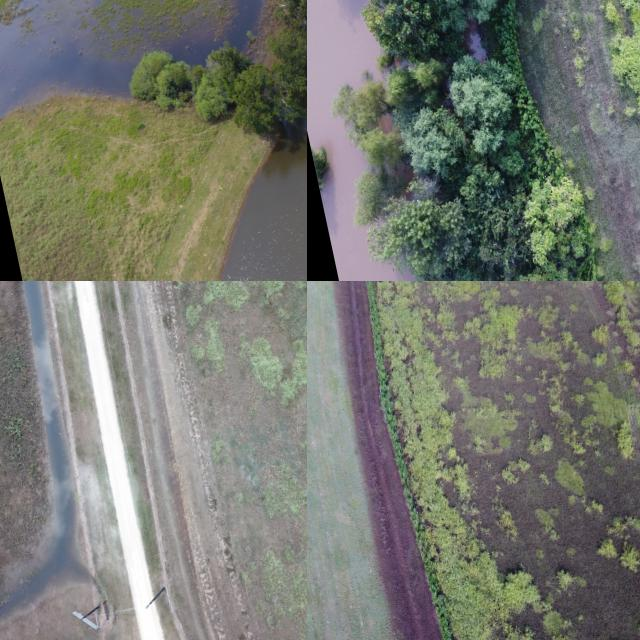fire: (307, 0, 412, 281), (0, 281, 74, 615)
